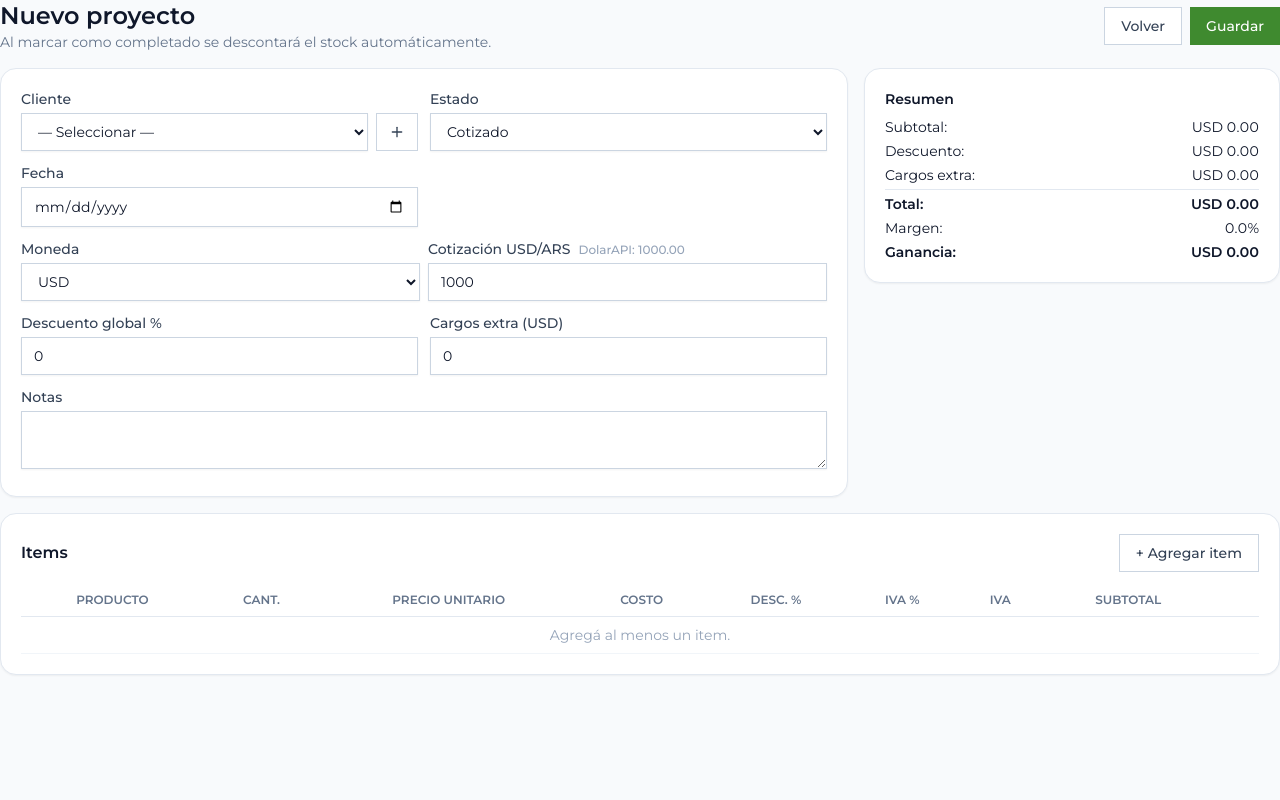
Scenario: ProjectFormPage › creates the client, auto-selects it and closes the modal
The width and height of the screenshot is (1280, 800).
Click the button named "crear cliente" at (397, 132), box [376, 113, 418, 151]
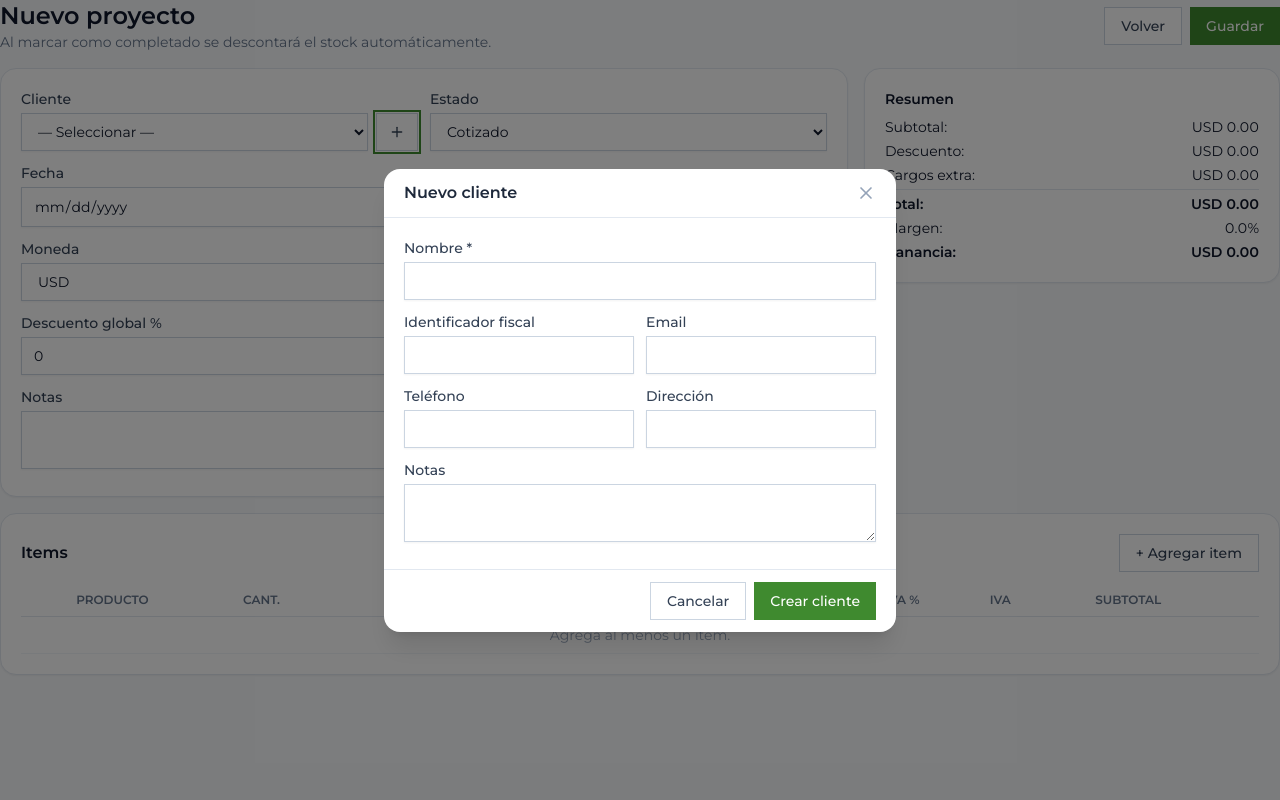
Result: the heading "Nuevo cliente" is shown at [404, 180, 517, 204]
Type "Cliente Nuevo" into the field below "Nombre *" at (640, 280), box [404, 262, 876, 300]
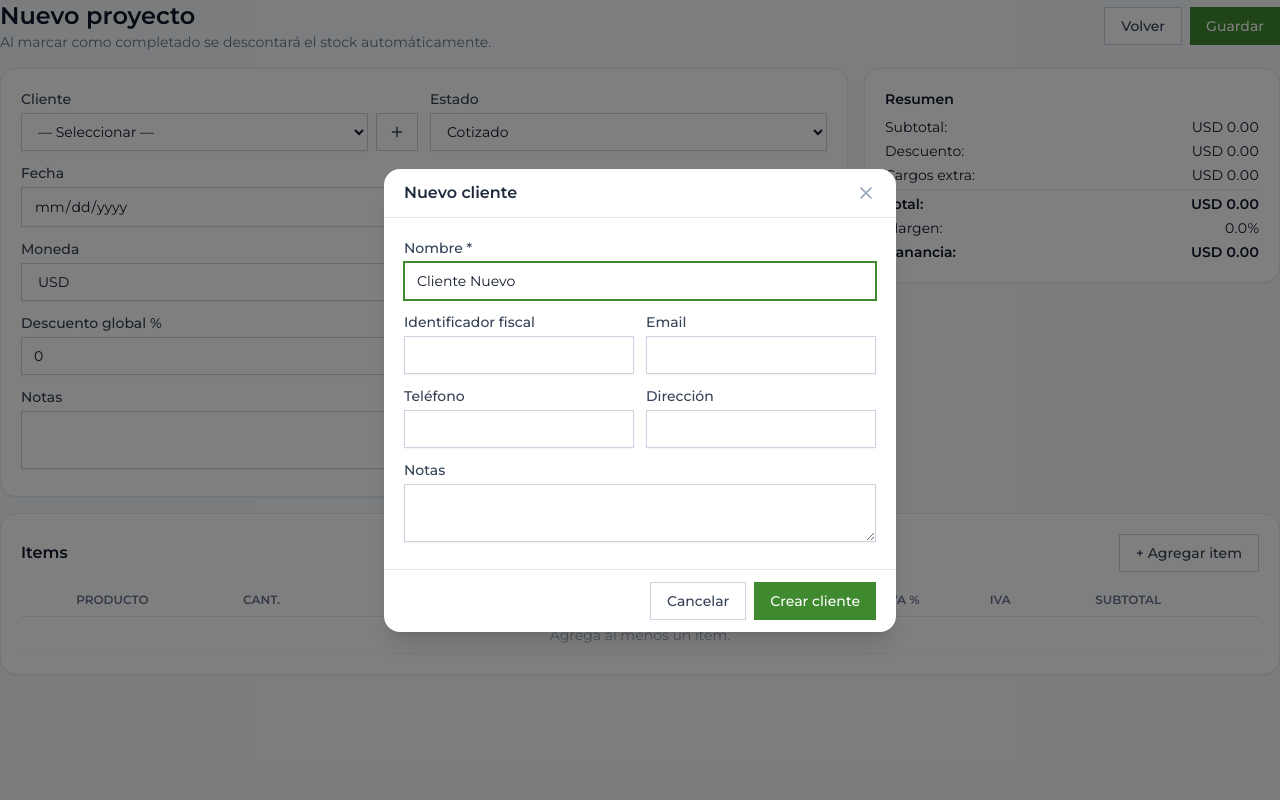
Type "20-12345678-9" into the field below "Identificador fiscal" at (519, 354), box [404, 336, 634, 374]
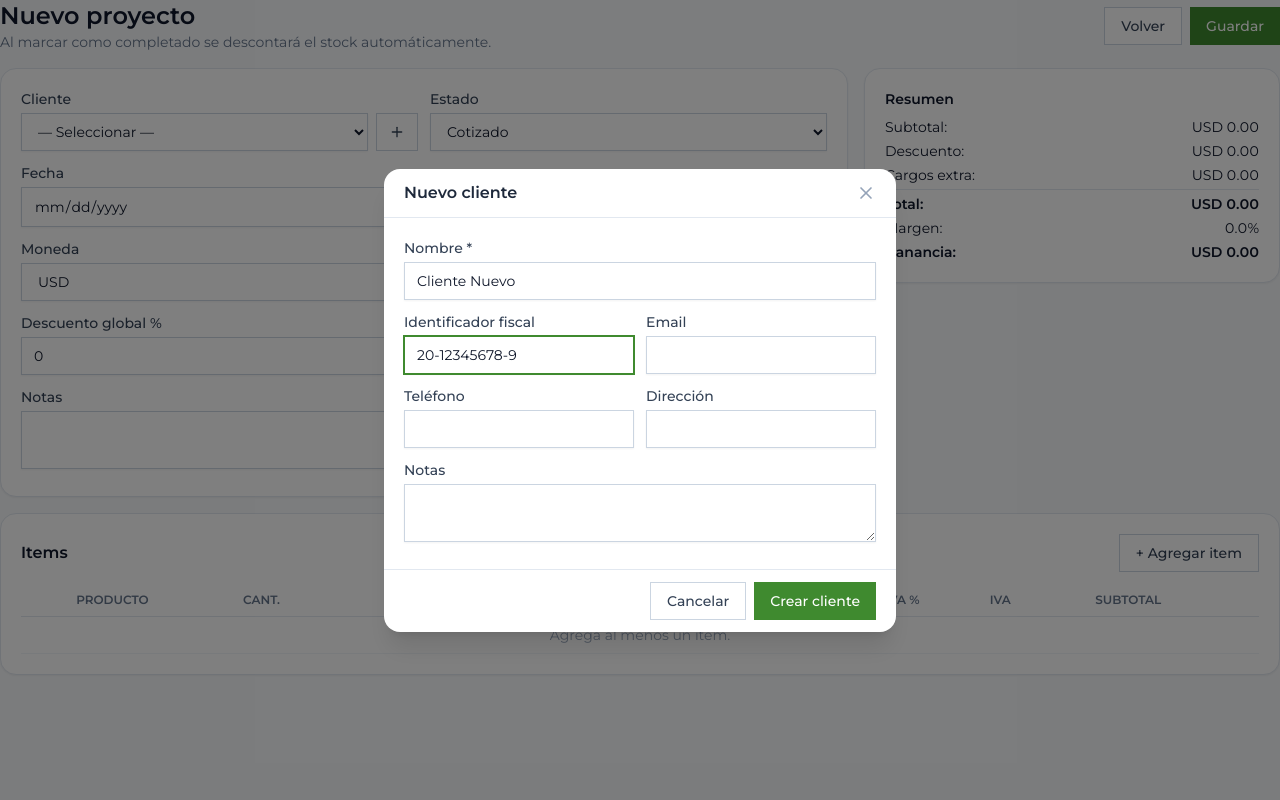
Type "nuevo@cliente.com" into the field below "Email" at (761, 354), box [646, 336, 876, 374]
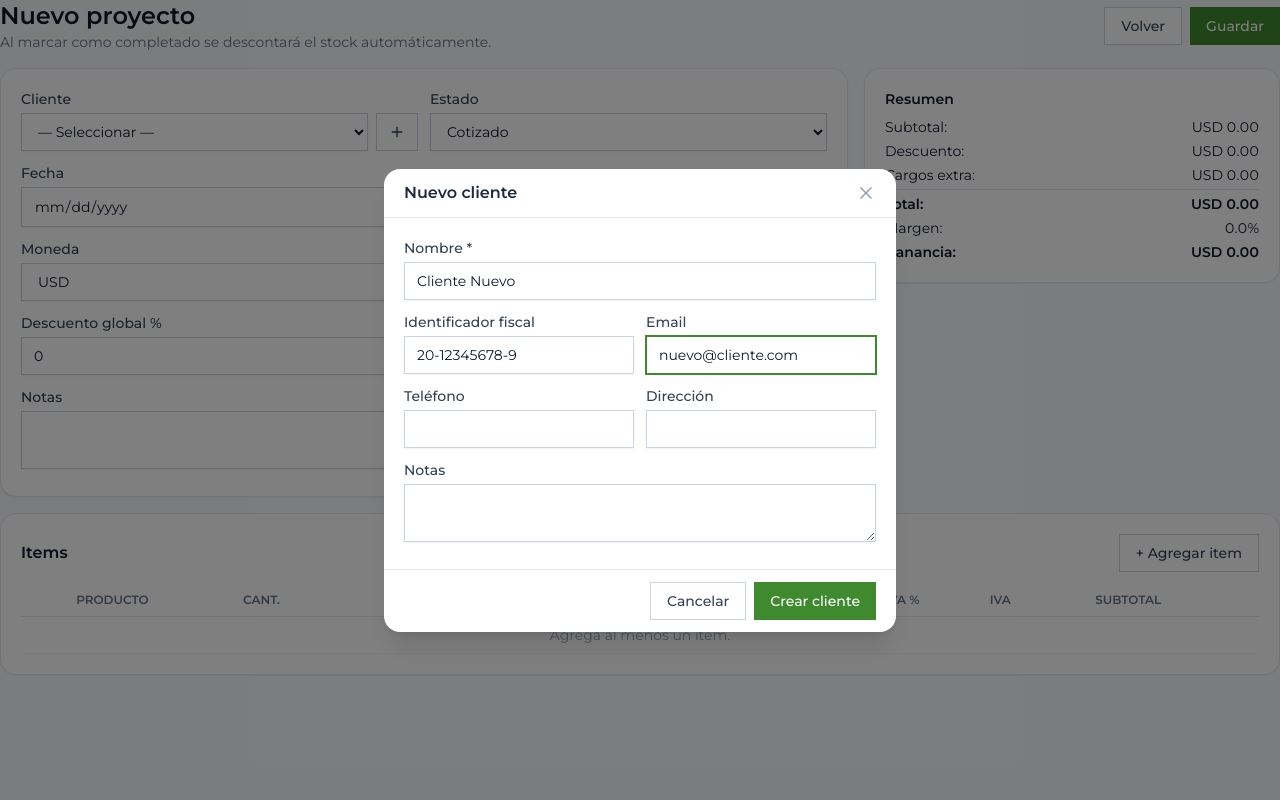
Click the submit button at (815, 600), box [754, 582, 876, 620]
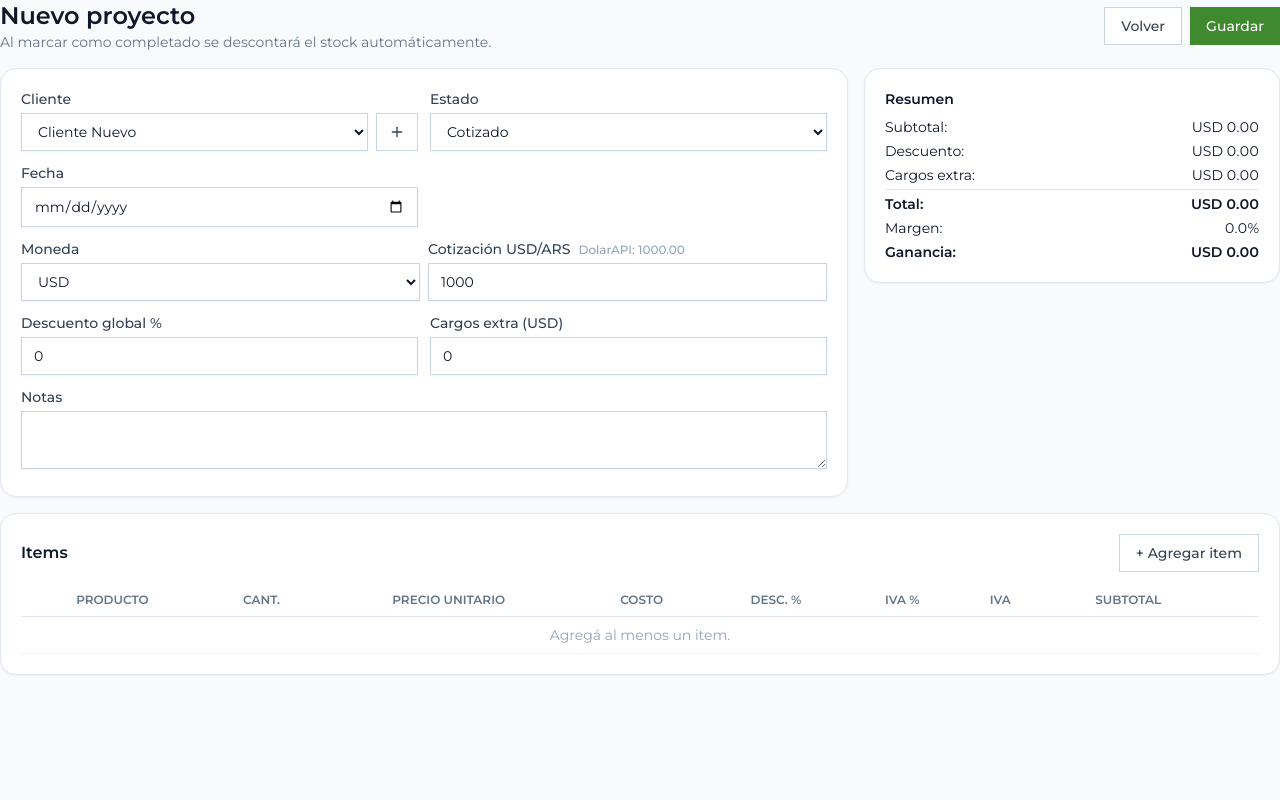
Result: the heading "Nuevo cliente" is gone
Result: the dropdown named "Cliente Uno" below "Cliente" shows "Cliente Nuevo" at [21, 113, 368, 151]
